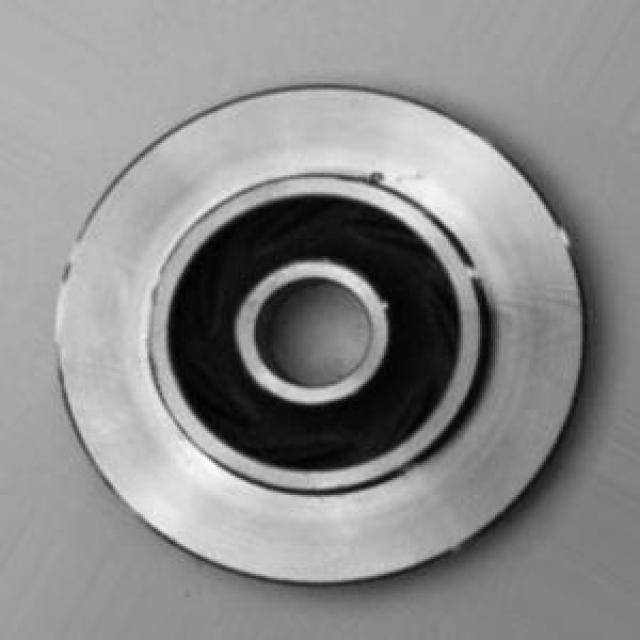Defect: (364, 160, 399, 193)
